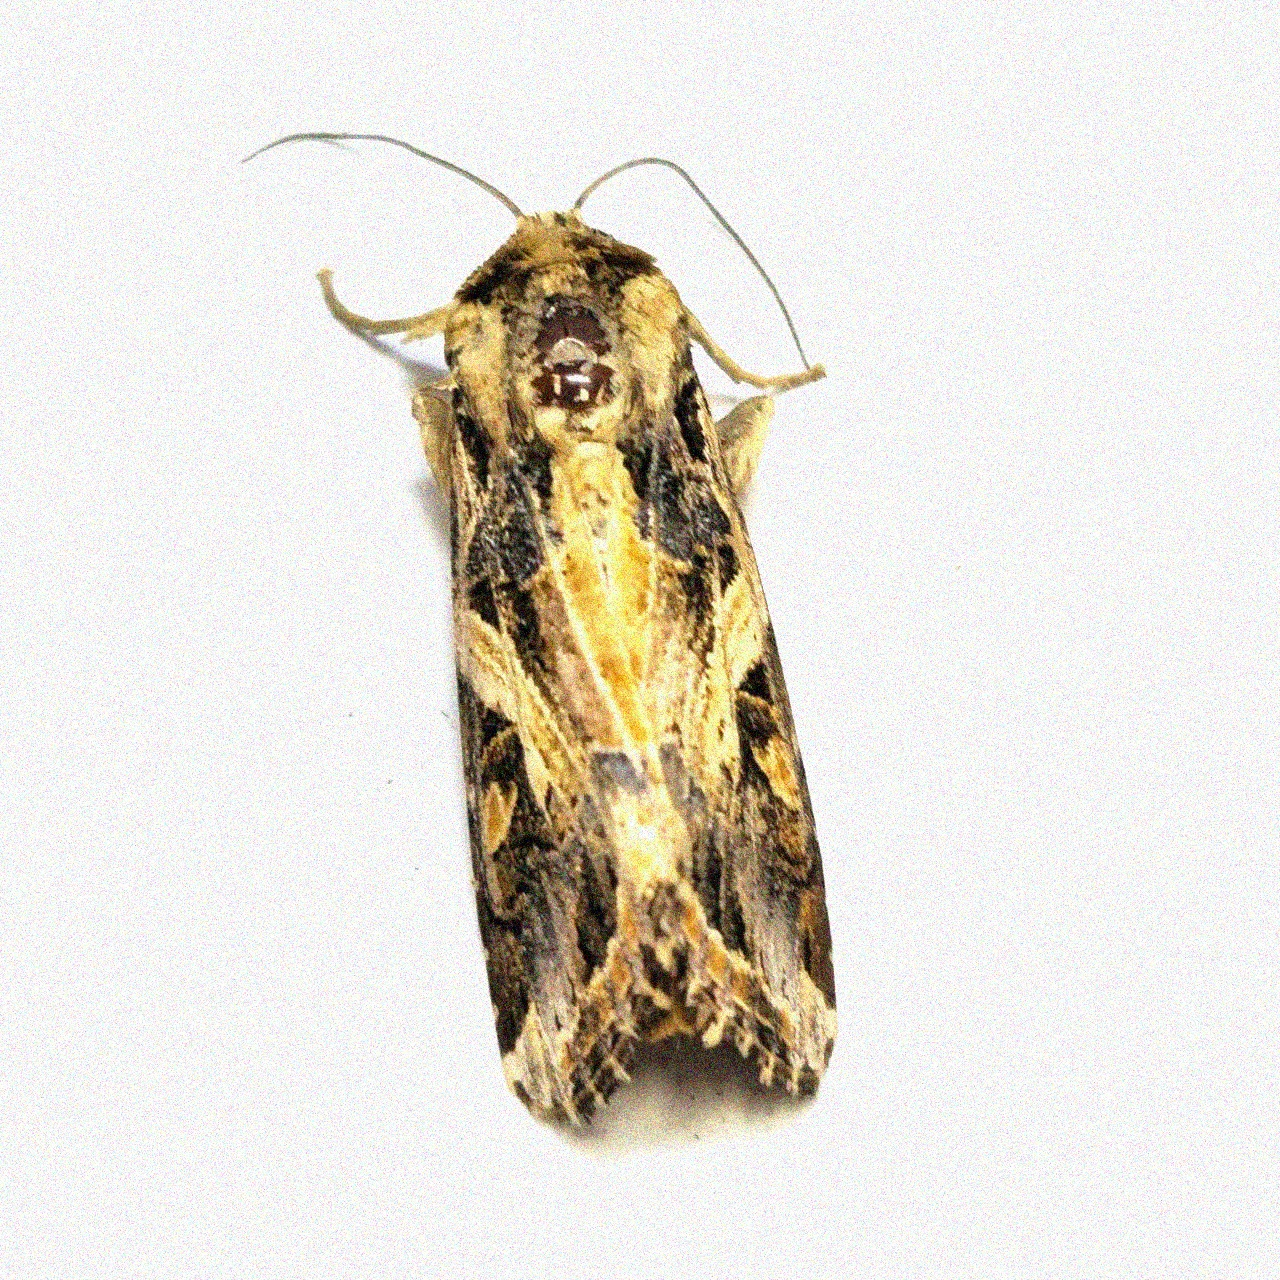Spodoptera litura: (240, 129, 839, 1131)
